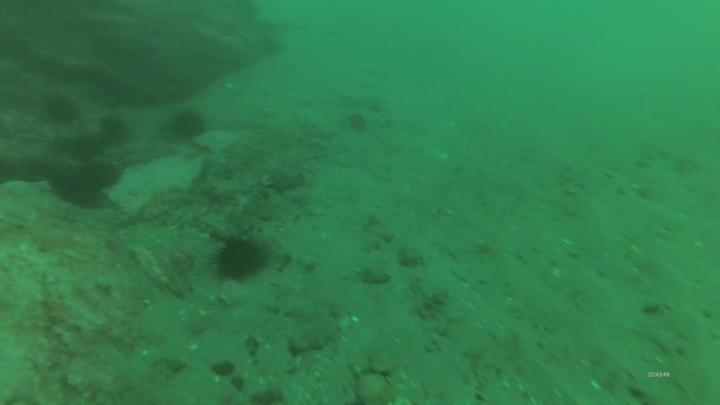echinus: (209, 235, 267, 284), (164, 108, 210, 143), (82, 161, 125, 192), (41, 92, 79, 126), (96, 115, 130, 143)
holothurian: (261, 139, 322, 193), (285, 301, 341, 357)
